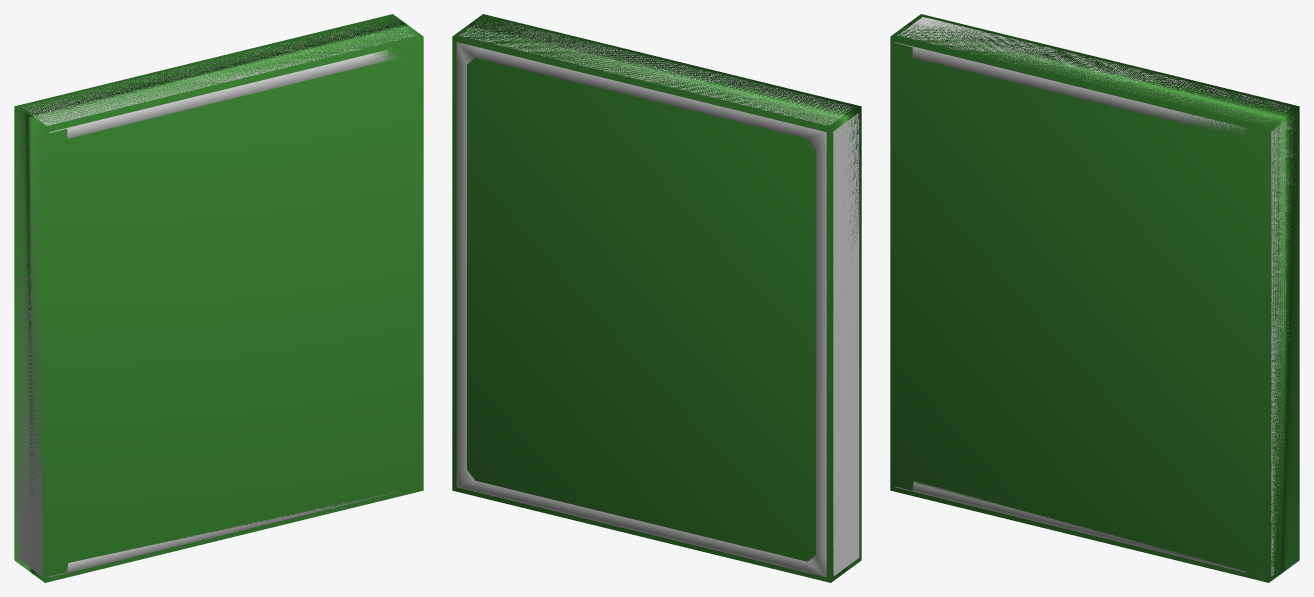
File: DuctVent_01_Mesh.fbx
The picture shows the model from 3 angles, left to right: view 1: azimuth 30°, elevation 25°; view 2: azimuth 150°, elevation 25°; view 3: azimuth 330°, elevation 25°; orthographic projection.
Visible parts, largest first — view 1: Duct_DuctVent_02_Col, Duct_DuctVent_02_LOD0; view 2: Duct_DuctVent_02_Col, Duct_DuctVent_02_LOD0; view 3: Duct_DuctVent_02_Col, Duct_DuctVent_02_LOD0.
Part boxes in pixels (x1,y1,x2,y2): Duct_DuctVent_02_Col: (14, 14, 423, 582); Duct_DuctVent_02_LOD0: (16, 20, 416, 577); Duct_DuctVent_02_Col: (452, 14, 861, 582); Duct_DuctVent_02_LOD0: (456, 19, 859, 577); Duct_DuctVent_02_Col: (890, 14, 1299, 582); Duct_DuctVent_02_LOD0: (894, 17, 1295, 576).
Size of what is drawn, in the model's own units: 71.29 by 81.73 by 10.05.
